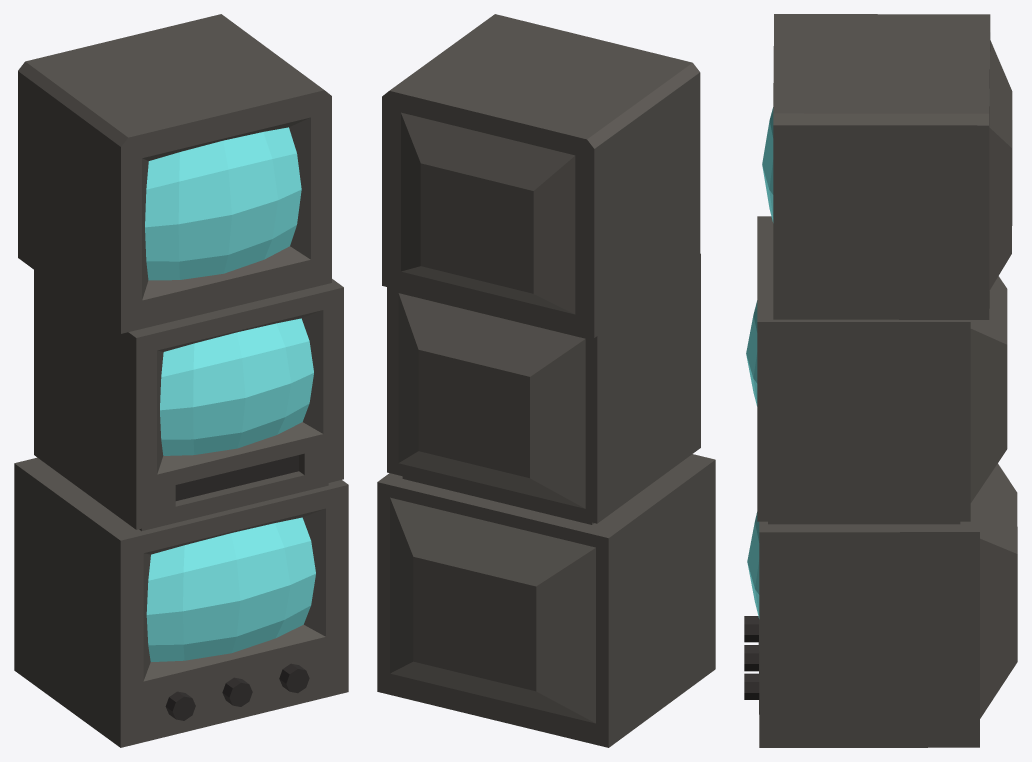
Rendered from TVTower2.fbx.
3 renders of one model, left to right at view 1: azimuth 30°, elevation 25°; view 2: azimuth 150°, elevation 25°; view 3: azimuth 270°, elevation 25°, orthographic. The views are drawn at different scales.
Visible parts, largest first — view 1: TVTower2; view 2: TVTower2; view 3: TVTower2.
Part boxes in pixels (x1,y1,x2,y2): TVTower2: (14,14,348,747); TVTower2: (377,14,715,747); TVTower2: (744,14,1017,747).
Size of the model in its own units: 56.32 by 141 by 55.99.
